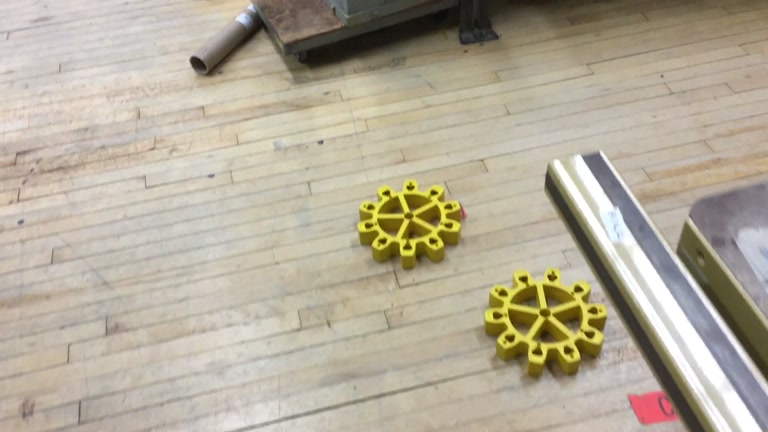gear: (482, 266, 608, 379), (355, 179, 465, 271)
